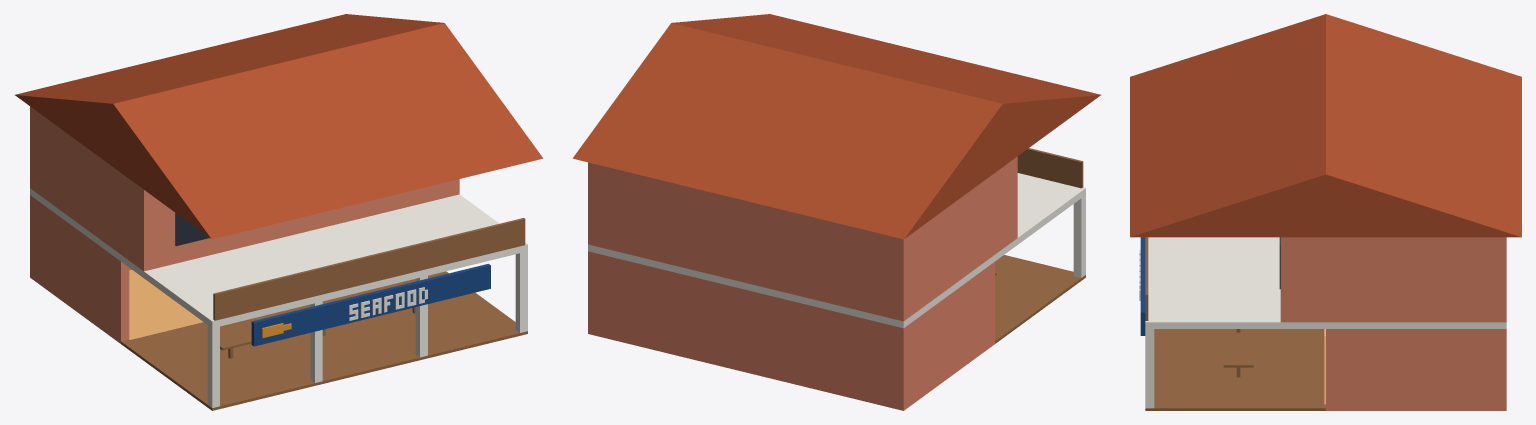
The model's file is bld_bh_seafood.glb.
3 views of the same model, side by side, from view 1: azimuth 30°, elevation 25°; view 2: azimuth 150°, elevation 25°; view 3: azimuth 270°, elevation 25° (orthographic).
Visible parts, largest first — view 1: bld_bh_seafood; view 2: bld_bh_seafood; view 3: bld_bh_seafood.
Boxes of the visible parts, x1=… form: bld_bh_seafood: x1=15, y1=14, x2=543, y2=410; bld_bh_seafood: x1=572, y1=14, x2=1100, y2=410; bld_bh_seafood: x1=1130, y1=14, x2=1521, y2=410.
Size of what is drawn, in the model's own units: 12.6 by 8.8 by 13.
